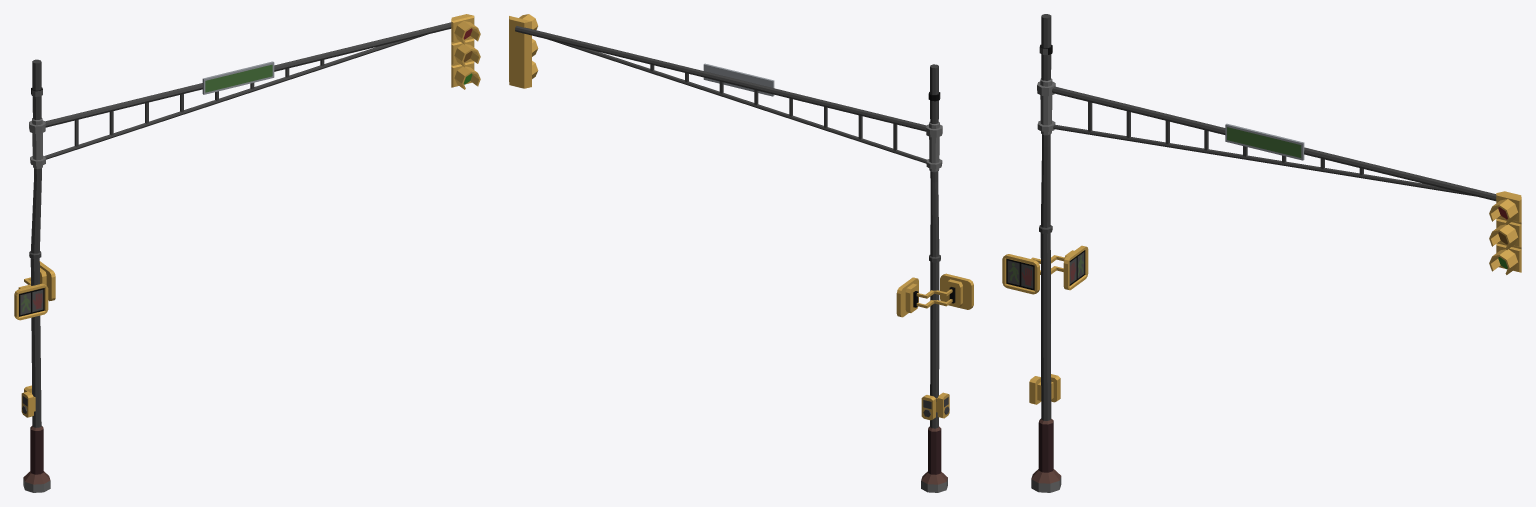
The model's file is trafficLight.glb.
The picture shows the model from 3 angles, left to right: view 1: azimuth 30°, elevation 25°; view 2: azimuth 150°, elevation 25°; view 3: azimuth 330°, elevation 25°; orthographic projection. The views are drawn at different scales.
Visible parts, largest first — view 1: trafficLight_LOD0; view 2: trafficLight_LOD0; view 3: trafficLight_LOD0.
Part boxes in pixels (x1,y1,x2,y2): trafficLight_LOD0: (14,14,480,492); trafficLight_LOD0: (509,14,973,492); trafficLight_LOD0: (1002,14,1521,492).
Size of what is drawn, in the model's own units: 11.33 by 9.94 by 1.32.
Materials: 1 (1 with a texture image).
